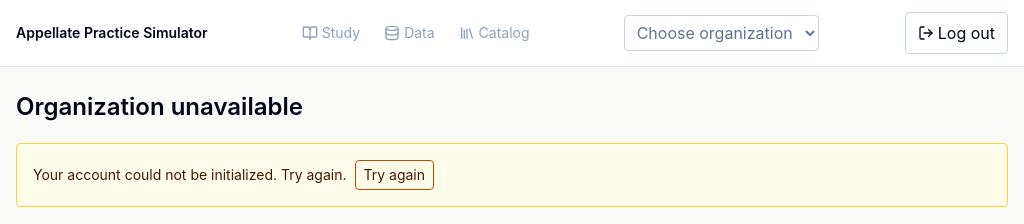
Test: OrganizationContextProvider › retries transient signed-in user initialization failures
Expected: the message shows "account could not be initialized", top-left (33, 166), bottom-right (346, 183)
Click the button "Try again" at (394, 175), box top-left (354, 160), bottom-right (434, 190)
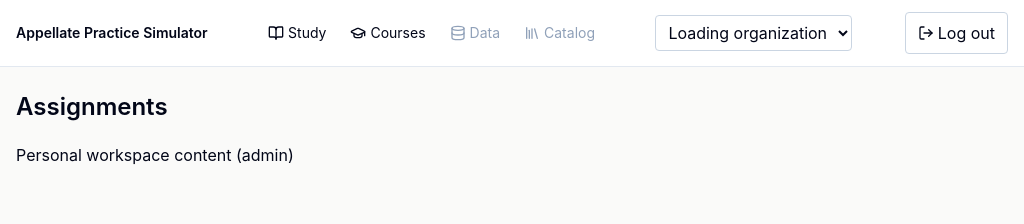
Now the text "Personal workspace content (admin)" is shown, box top-left (16, 145), bottom-right (294, 165)
